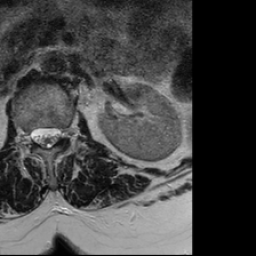CCS_normal: (40, 117, 50, 154)
LFS_normal: (60, 117, 70, 148)
LLS_normal: (50, 119, 60, 150)
RFS_normal: (22, 119, 31, 153)
RLS_normal: (31, 117, 40, 150)
